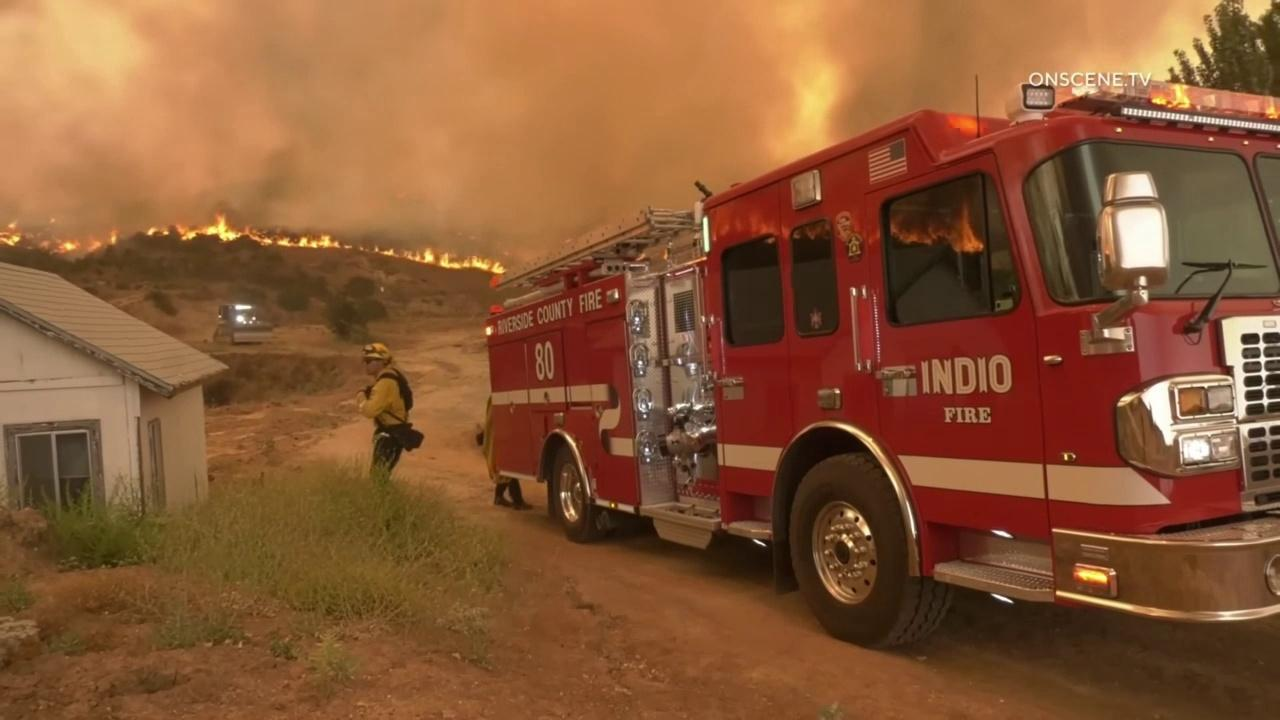fire: (147, 207, 341, 249), (374, 245, 505, 275), (38, 239, 81, 255), (0, 221, 22, 248), (86, 232, 102, 253), (109, 227, 118, 245), (344, 243, 352, 250), (358, 245, 365, 252)
smoke: (0, 0, 1224, 262)
